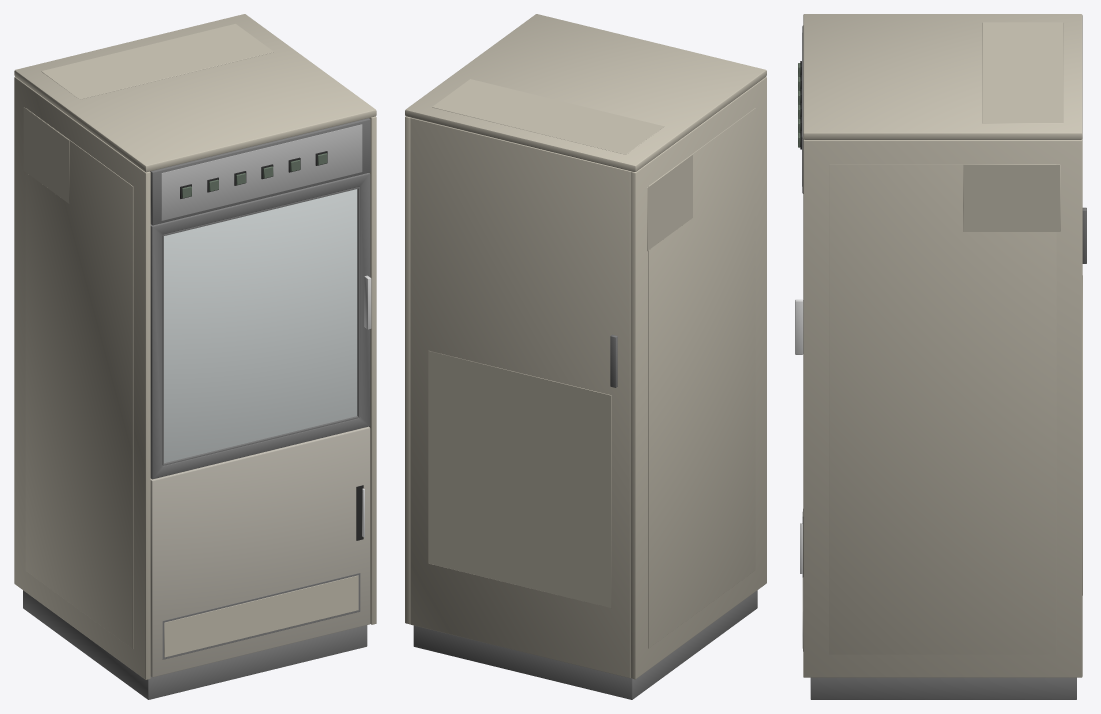
Rendered from Kit_TapeDrive_Reel_Off.fbx.
3 views of the same model, side by side, from view 1: azimuth 30°, elevation 25°; view 2: azimuth 150°, elevation 25°; view 3: azimuth 270°, elevation 25° (orthographic). The views are drawn at different scales.
Parts seen in each view (by area): view 1: Kit_TapeDrive_Reel_LOD0; view 2: Kit_TapeDrive_Reel_LOD0; view 3: Kit_TapeDrive_Reel_LOD0.
Part boxes in pixels (left/top/right/bottom): Kit_TapeDrive_Reel_LOD0: left=14, top=14, right=376, bottom=699; Kit_TapeDrive_Reel_LOD0: left=405, top=14, right=766, bottom=699; Kit_TapeDrive_Reel_LOD0: left=795, top=14, right=1086, bottom=699.
Size of what is drawn, in the model's own units: 0.7671 by 1.69 by 0.784.
